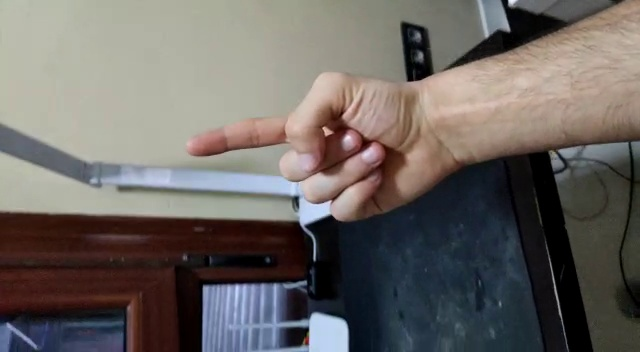One: (178, 110, 301, 160)
